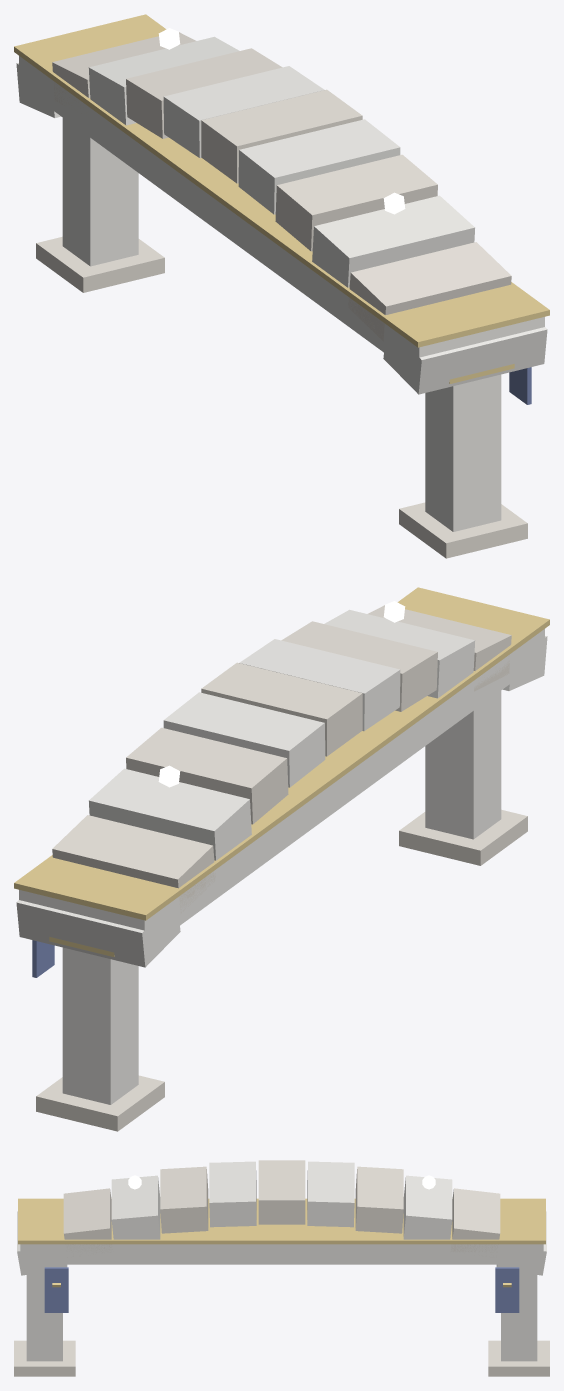
File: OBS_CloudArch_Low.glb
The picture shows the model from 3 angles, top to bottom: view 1: azimuth 30°, elevation 25°; view 2: azimuth 150°, elevation 25°; view 3: azimuth 270°, elevation 25°; orthographic projection. The views are drawn at different scales.
Visible parts, largest first — view 1: OBS_CloudArch_Low; view 2: OBS_CloudArch_Low; view 3: OBS_CloudArch_Low.
Boxes of the visible parts, x1,y1,x2,y2 form: OBS_CloudArch_Low: (14,14,549,558); OBS_CloudArch_Low: (14,587,549,1131); OBS_CloudArch_Low: (14,1160,549,1376).
Size of the model in its own units: 1.34 by 2.63 by 6.78.
